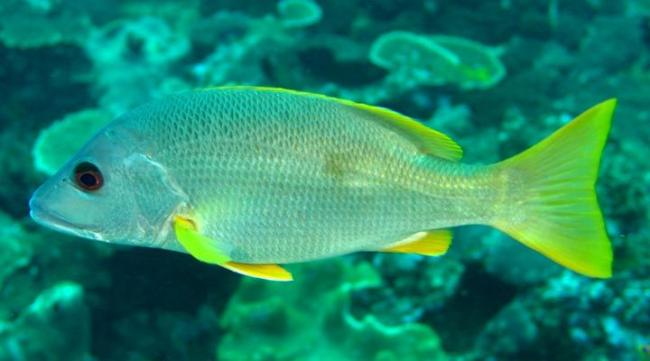fish: (28, 84, 618, 278)
